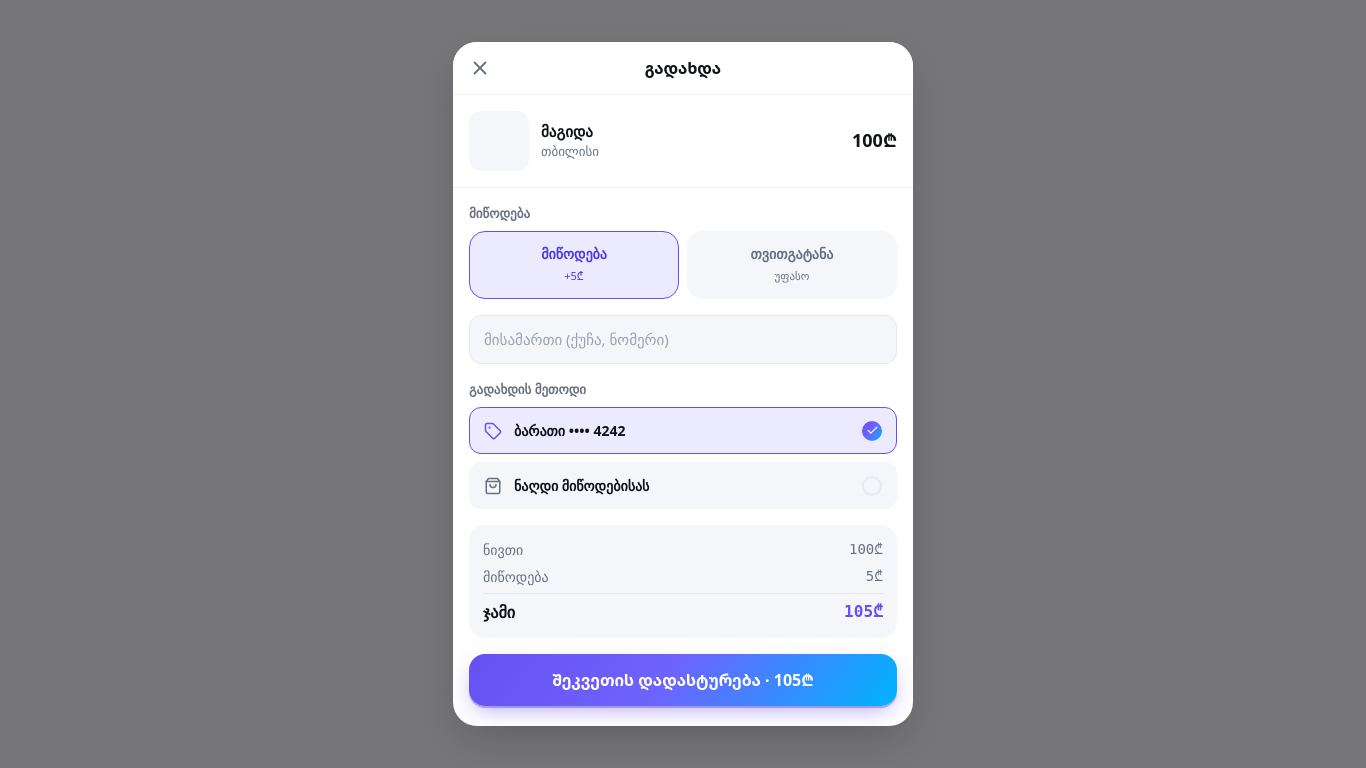
it: Checkout › confirming calls onPlace with the current delivery/payment/total, then shows the success screen
The image size is (1366, 768).
Click the button "ნაღდი მიწოდებისას" at [582, 486], box [469,462,897,509]
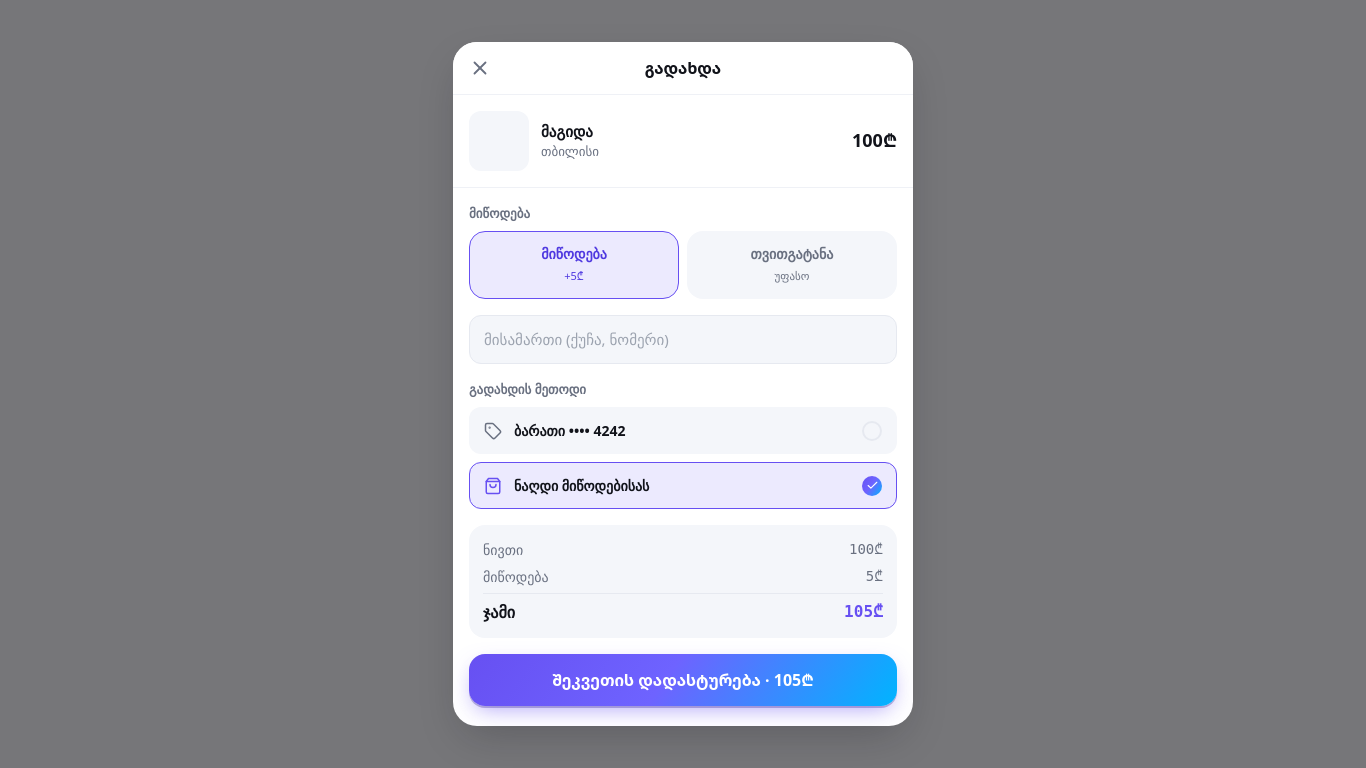
Click the button "შეკვეთის დადასტურება · 105₾" at [683, 680], box [469,654,897,706]
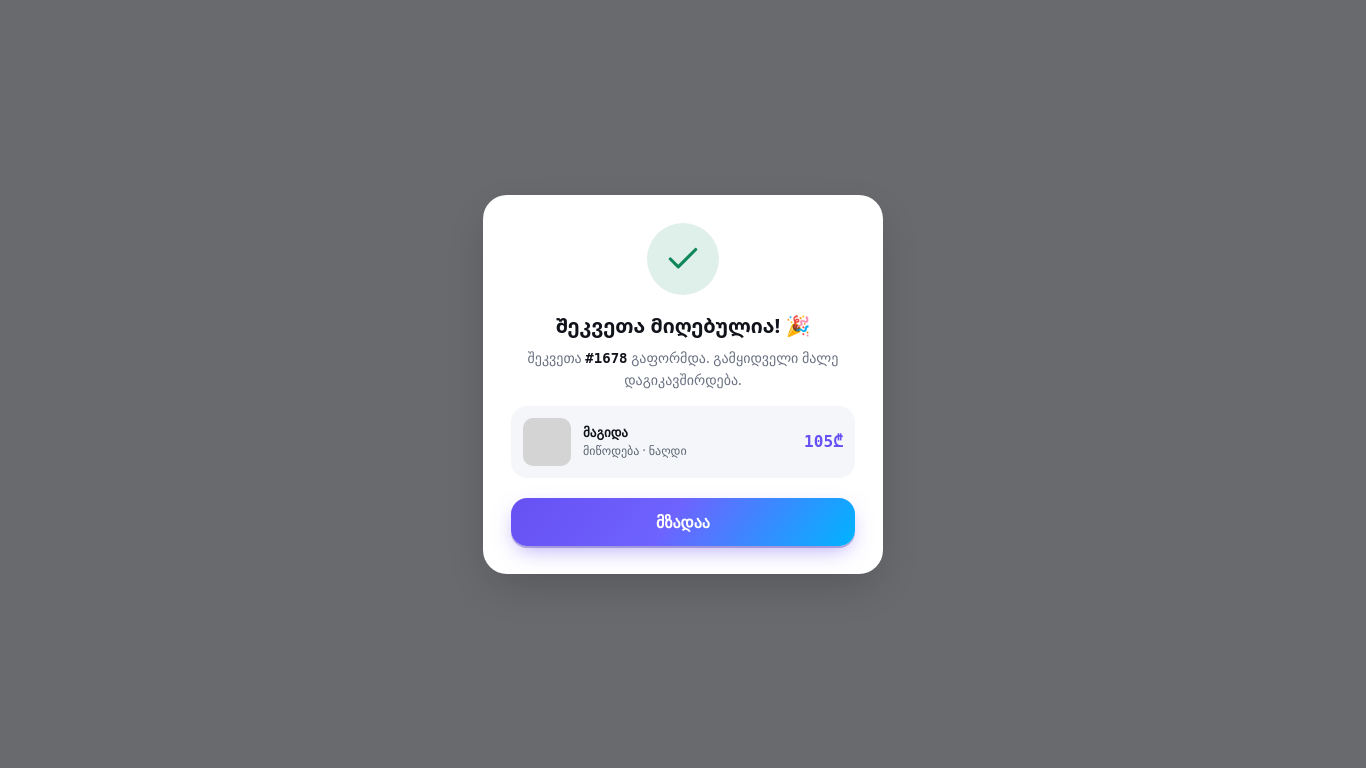
Result: the text "შეკვეთა მიღებულია! 🎉" is shown at [556,312,810,338]
